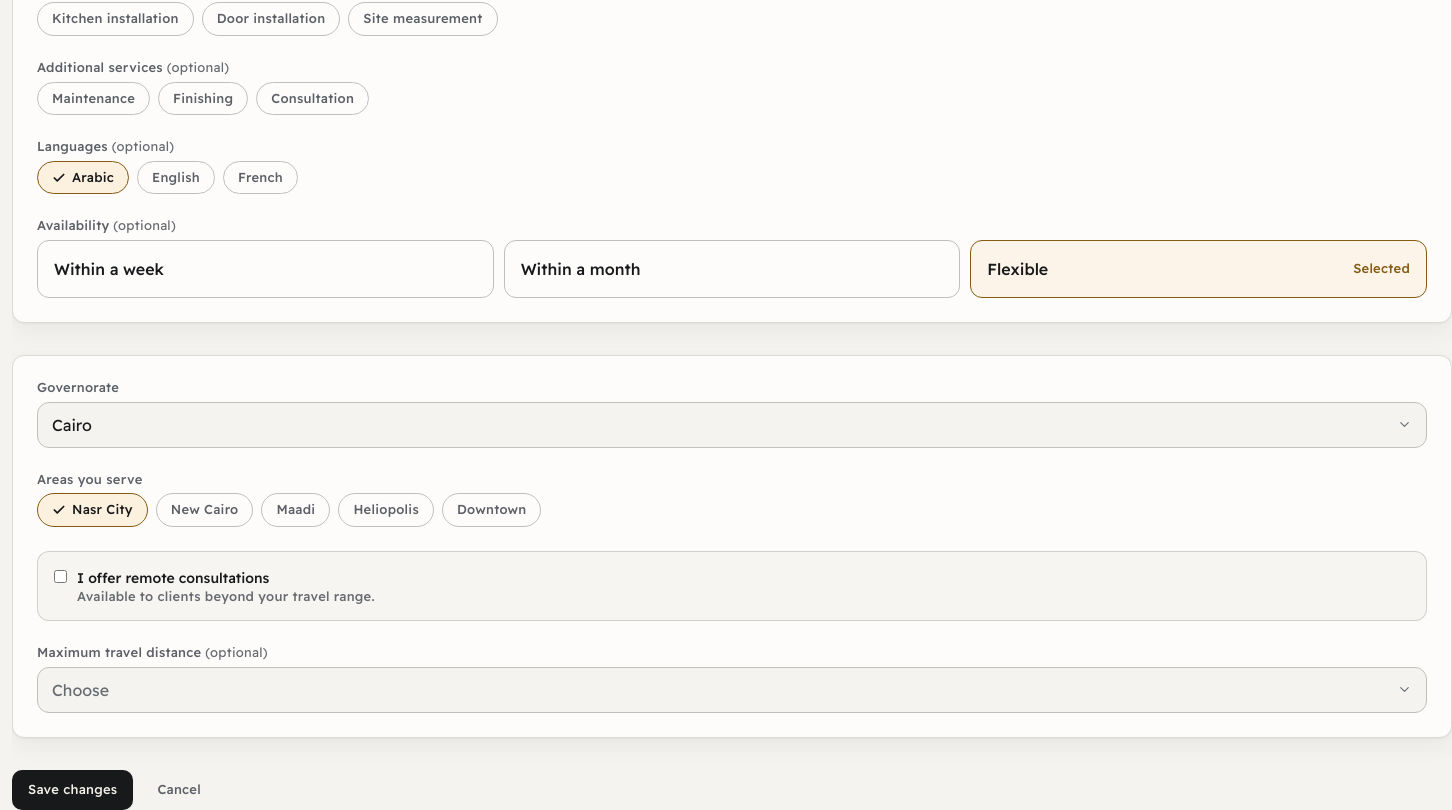
Scenario: ProfessionalProfileEditor › surfaces a failed save instead of pretending it worked
(page scrolled)
Click the button "Save changes": (73, 790) [12,770,133,809]
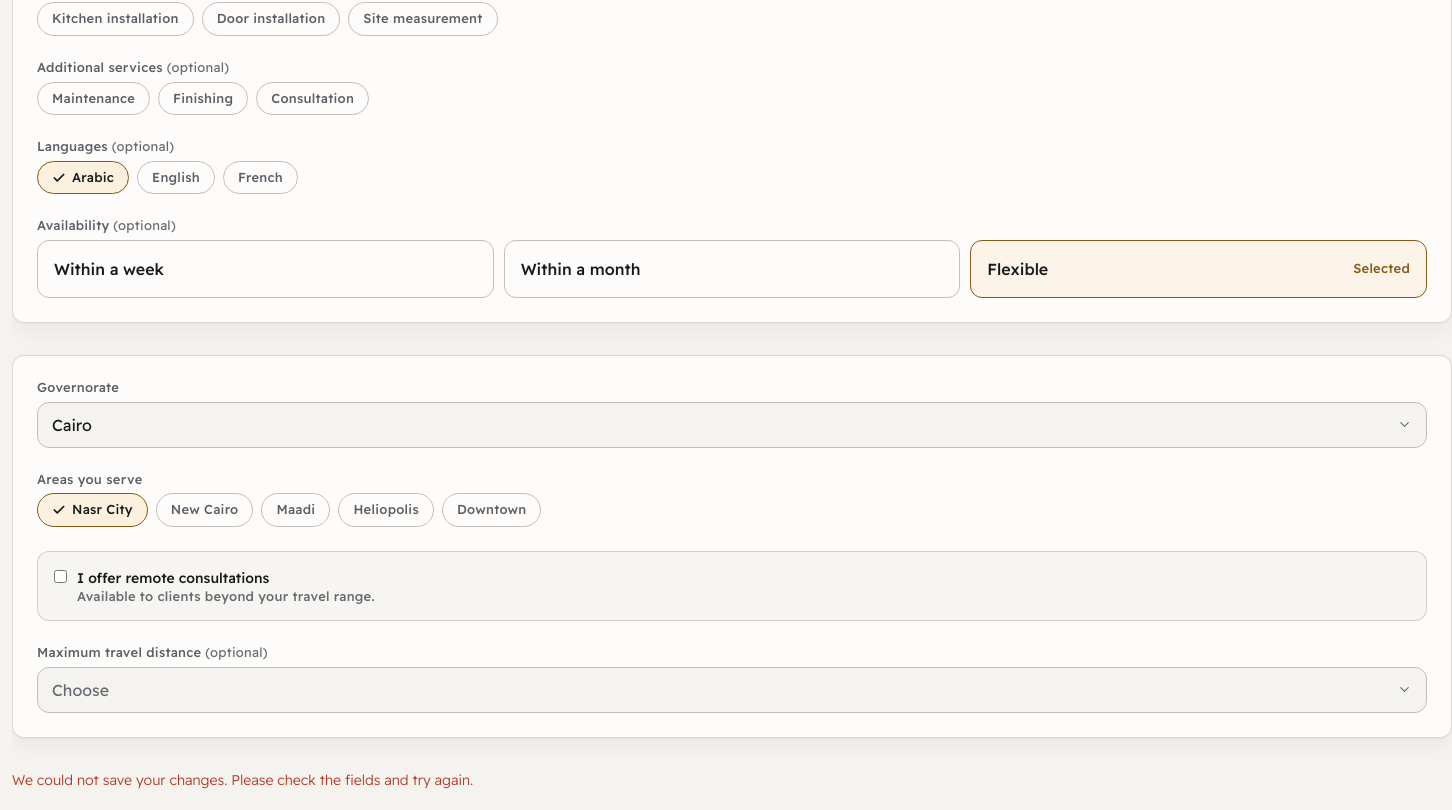
Result: the message "We could not save your changes. Please check the fields and try again." is shown at [12,771,473,789]
